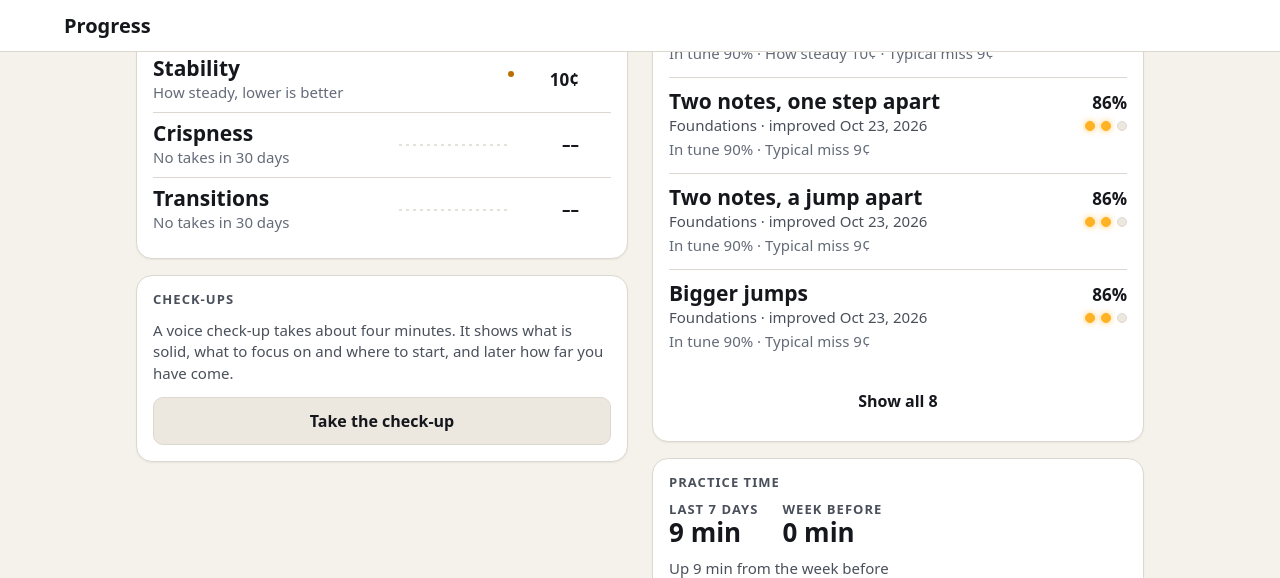
Dashboard: level map, range, bests, practice › shows six personal bests, and all of them on request
The width and height of the screenshot is (1280, 578).
(page scrolled)
What coordinates should you click on to do the following:
click the button "Show all 8"
I would click on:
 (898, 401)
Its box is [669,377,1127,425].
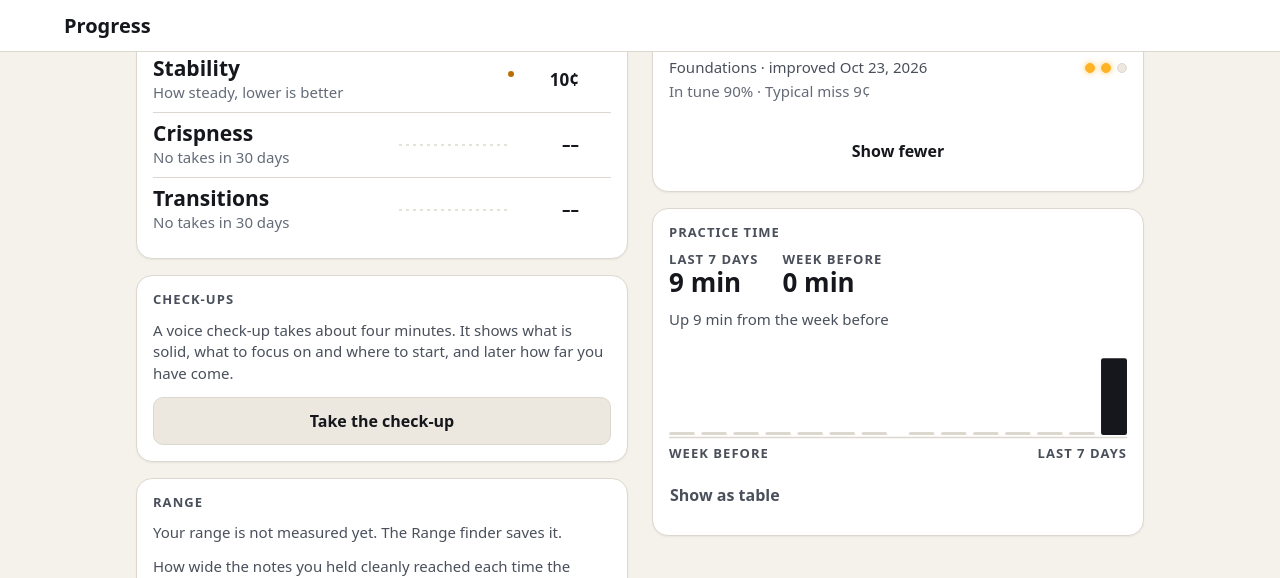
Check: the button "Show fewer" is shown, box [669,127,1127,175]
